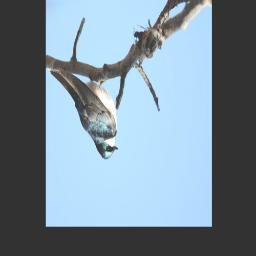Swallow: (49, 62, 119, 164)
